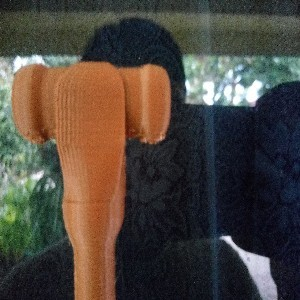palu: (10, 60, 170, 300)
